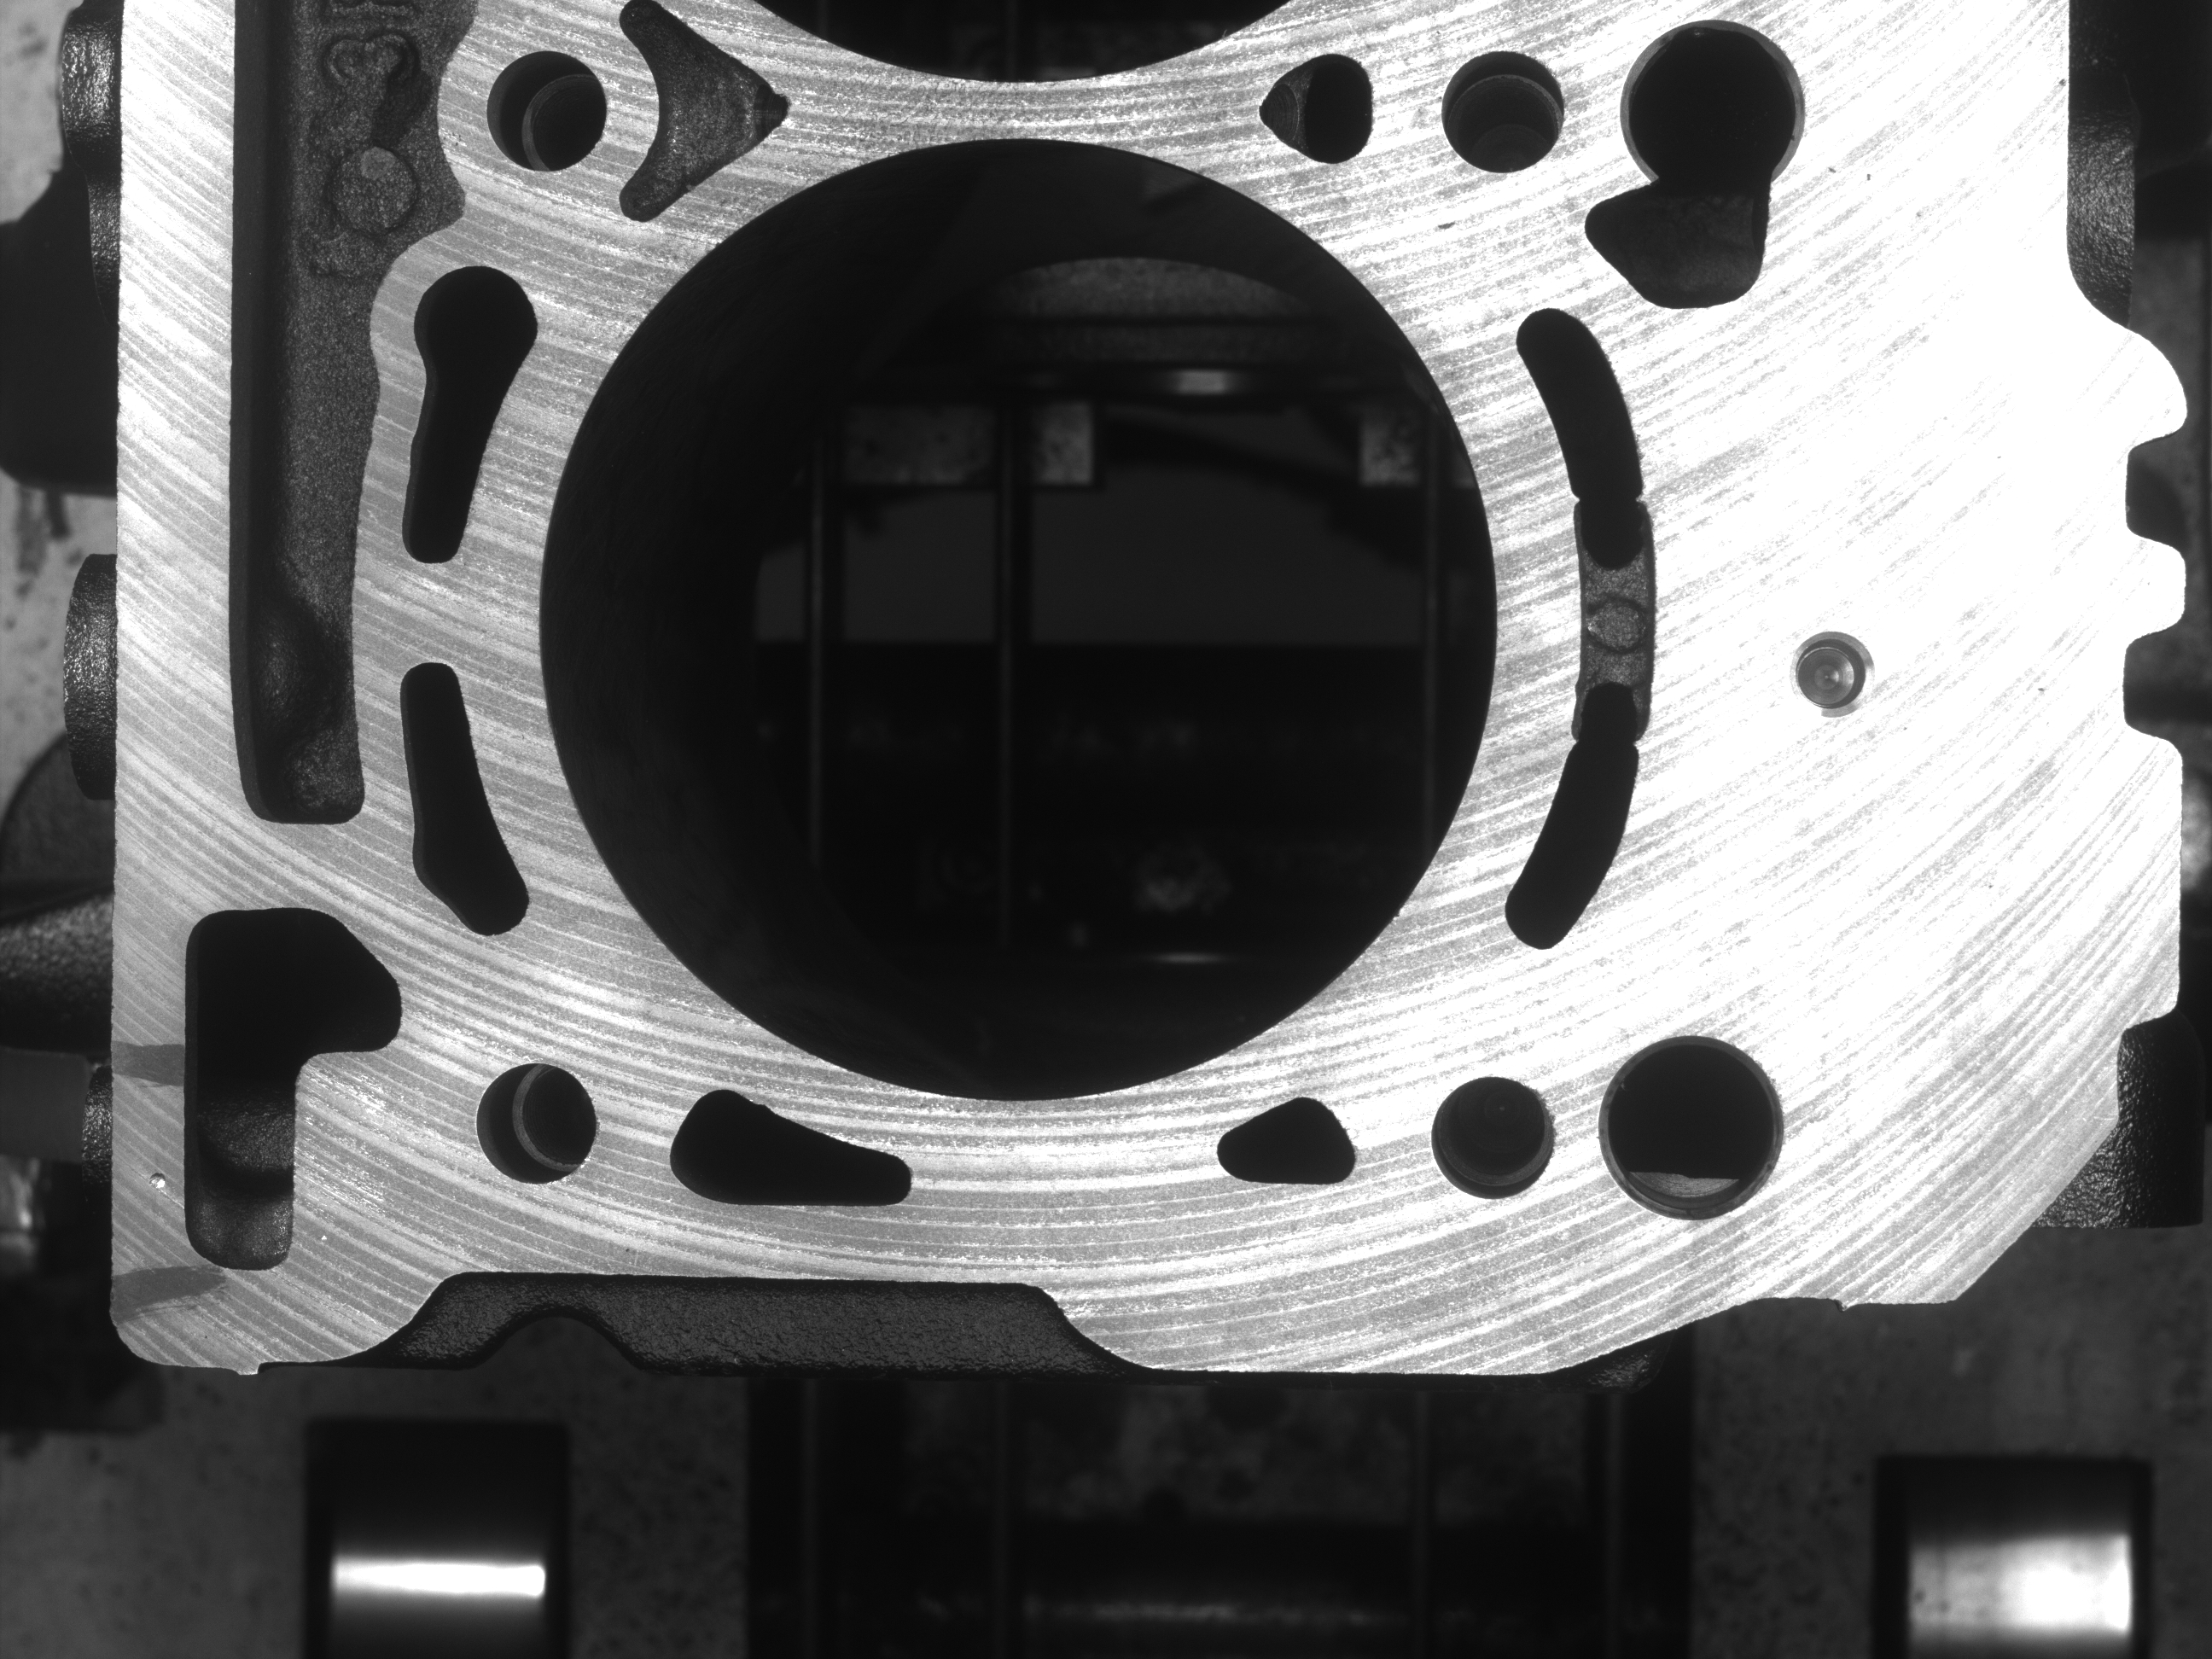crackle: (132, 1161, 171, 1211)
